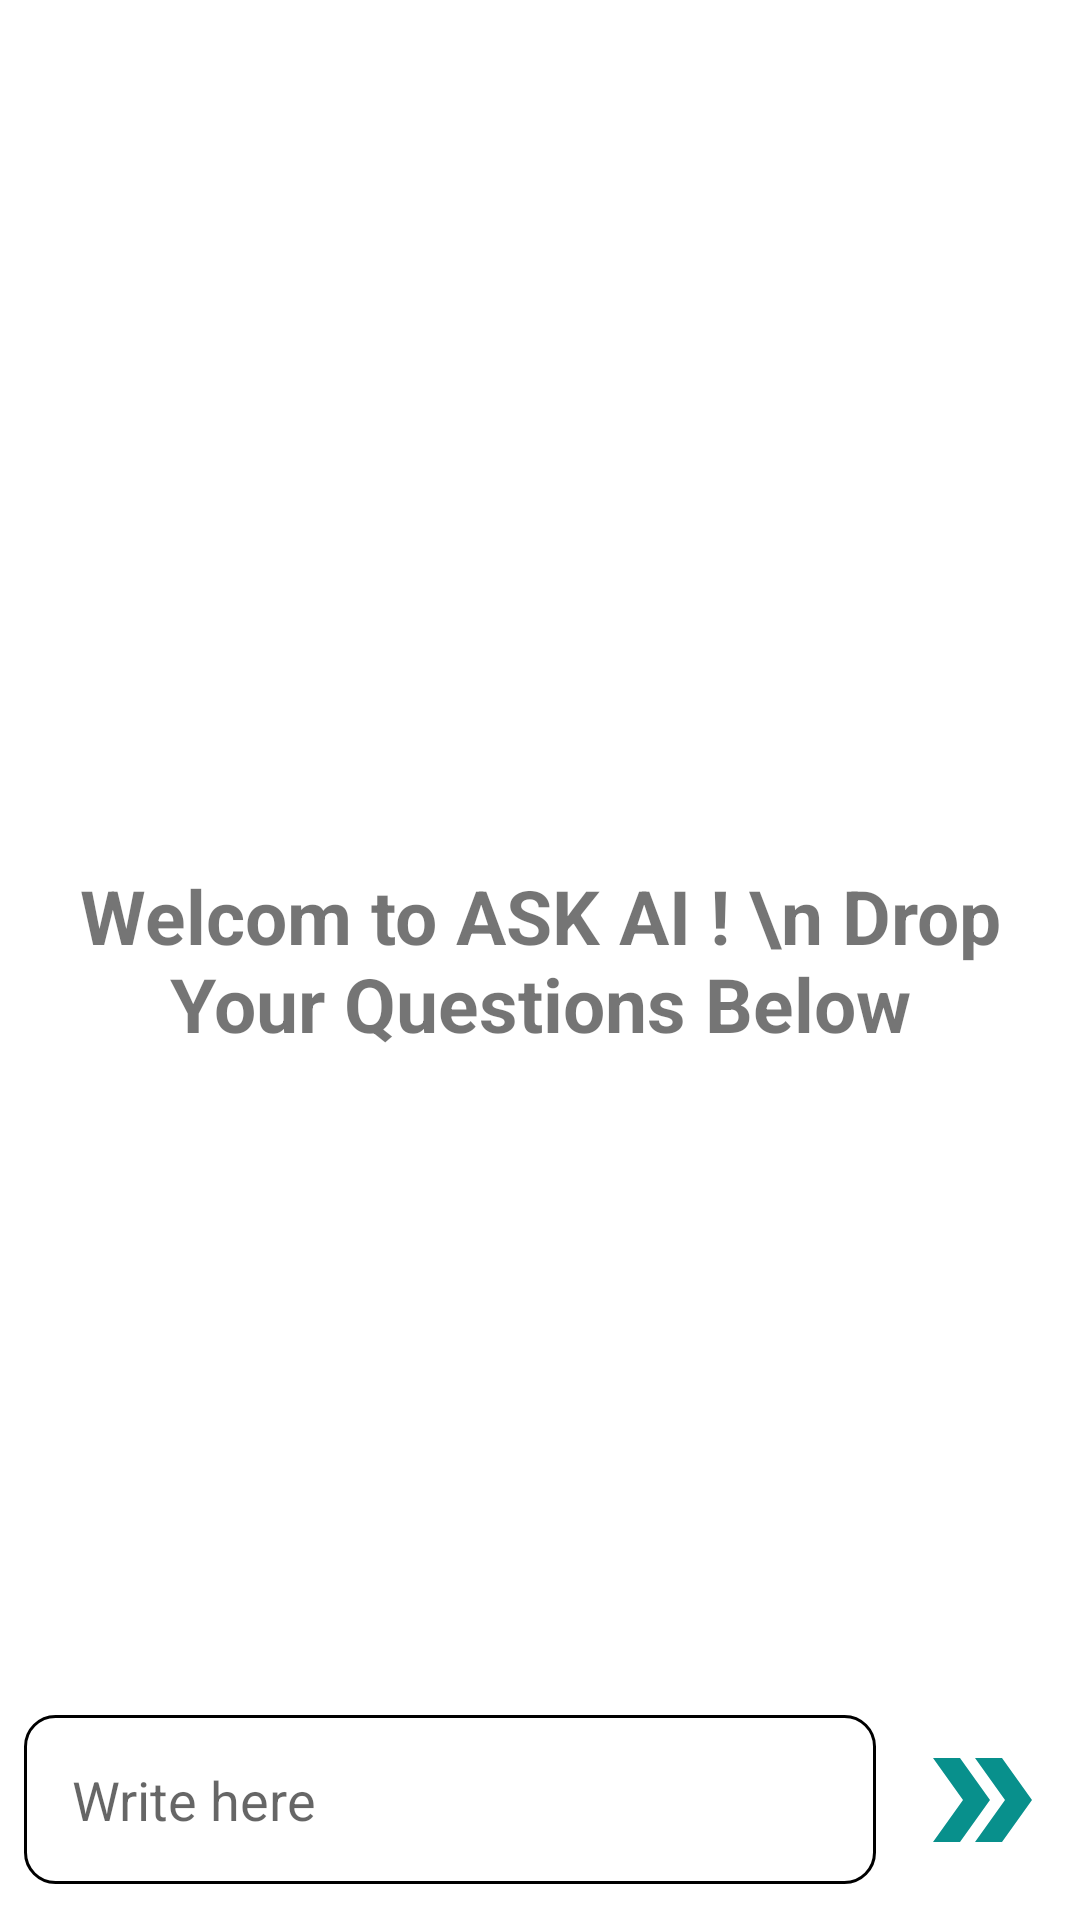

Icon click points for this 1080px x 1920px phone screenshot, format (x=x, y=y):
double arrow: (x=982, y=1800)
